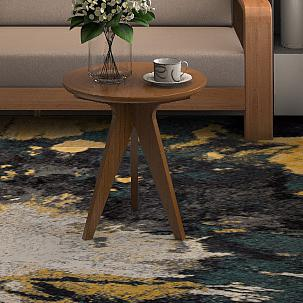table: (57, 58, 209, 242)
